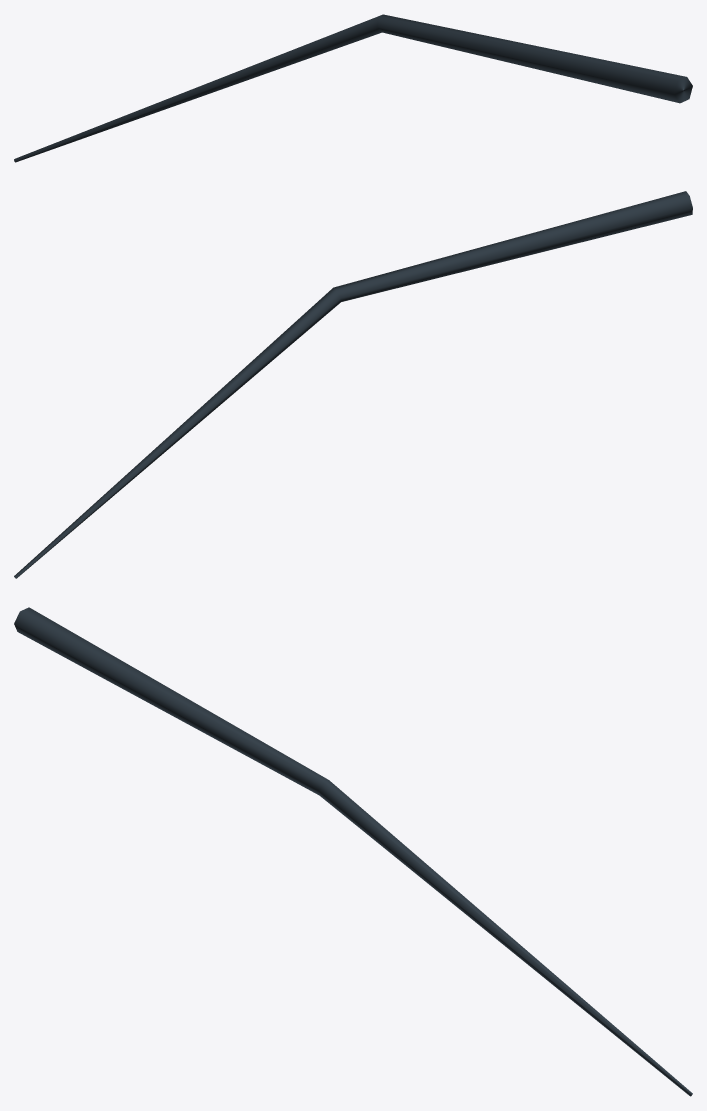
File: R_Wing_Finger_2.obj
3 renders of one model, top to bottom at view 1: azimuth 90°, elevation 25°; view 2: azimuth 150°, elevation 25°; view 3: azimuth 270°, elevation 25°, orthographic. The views are drawn at different scales.
Parts seen in each view (by area): view 1: R_Wing_Finger_2; view 2: R_Wing_Finger_2; view 3: R_Wing_Finger_2.
Part boxes in pixels (bbox=[...]): R_Wing_Finger_2: bbox=[14, 14, 692, 162]; R_Wing_Finger_2: bbox=[14, 191, 692, 578]; R_Wing_Finger_2: bbox=[14, 607, 692, 1096].
Size of the model in its own units: 3.94 by 2.53 by 5.45.
